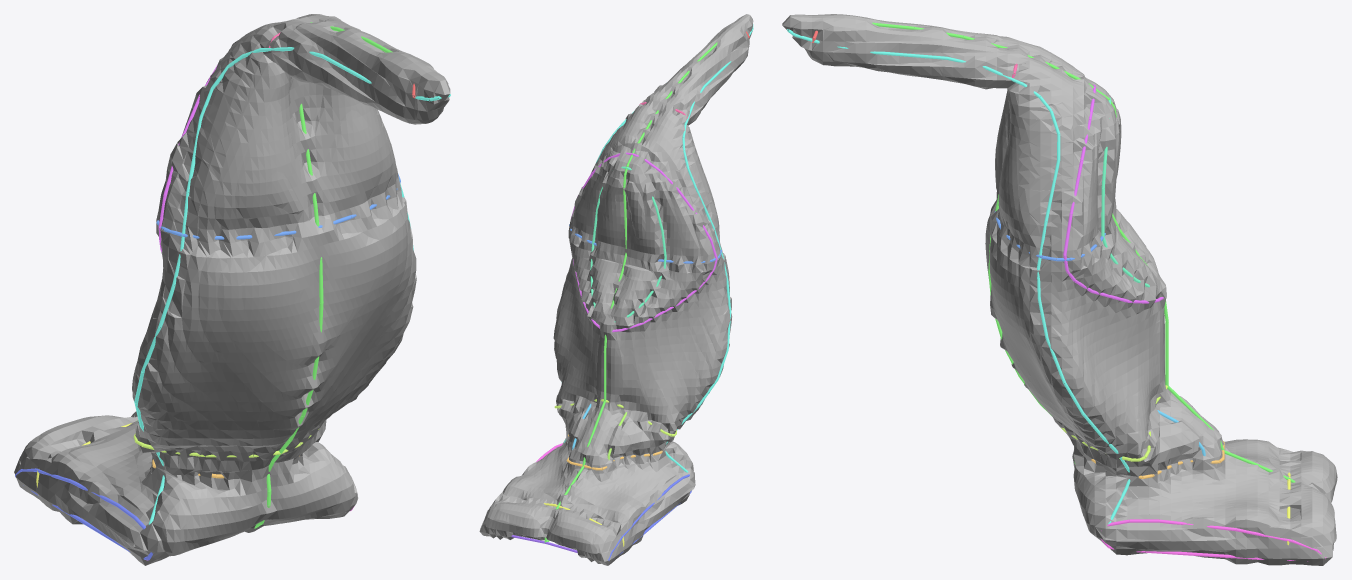
File: t2f_vacuum.gltf
3 views of the same model, side by side, from view 1: azimuth 30°, elevation 25°; view 2: azimuth 150°, elevation 25°; view 3: azimuth 270°, elevation 25° (orthographic). The views are drawn at different scales.
Size of the model in its own units: 0.317 by 0.6959 by 0.6855.
